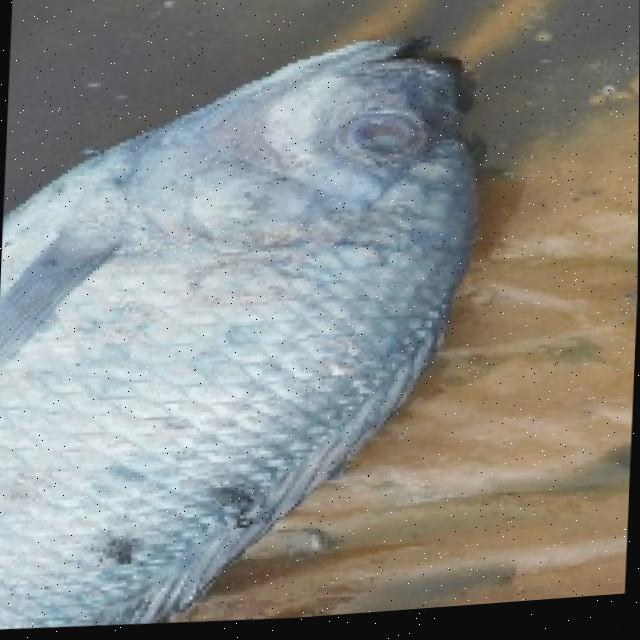Non-Fresh: (0, 37, 480, 640), (320, 84, 432, 209)
